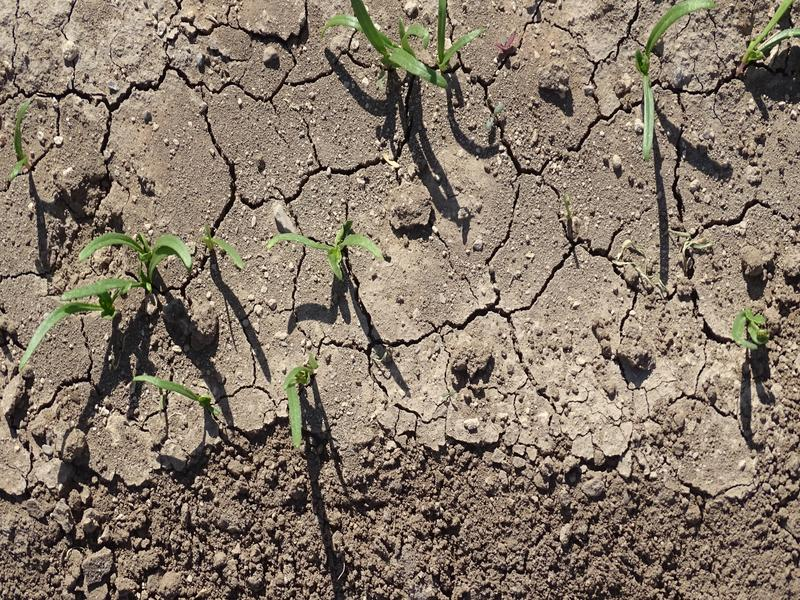Espinaca: (24, 222, 249, 363), (344, 1, 481, 89), (641, 1, 711, 151), (267, 218, 395, 284), (135, 366, 231, 422), (731, 3, 795, 68), (283, 361, 319, 452), (733, 299, 767, 355)
